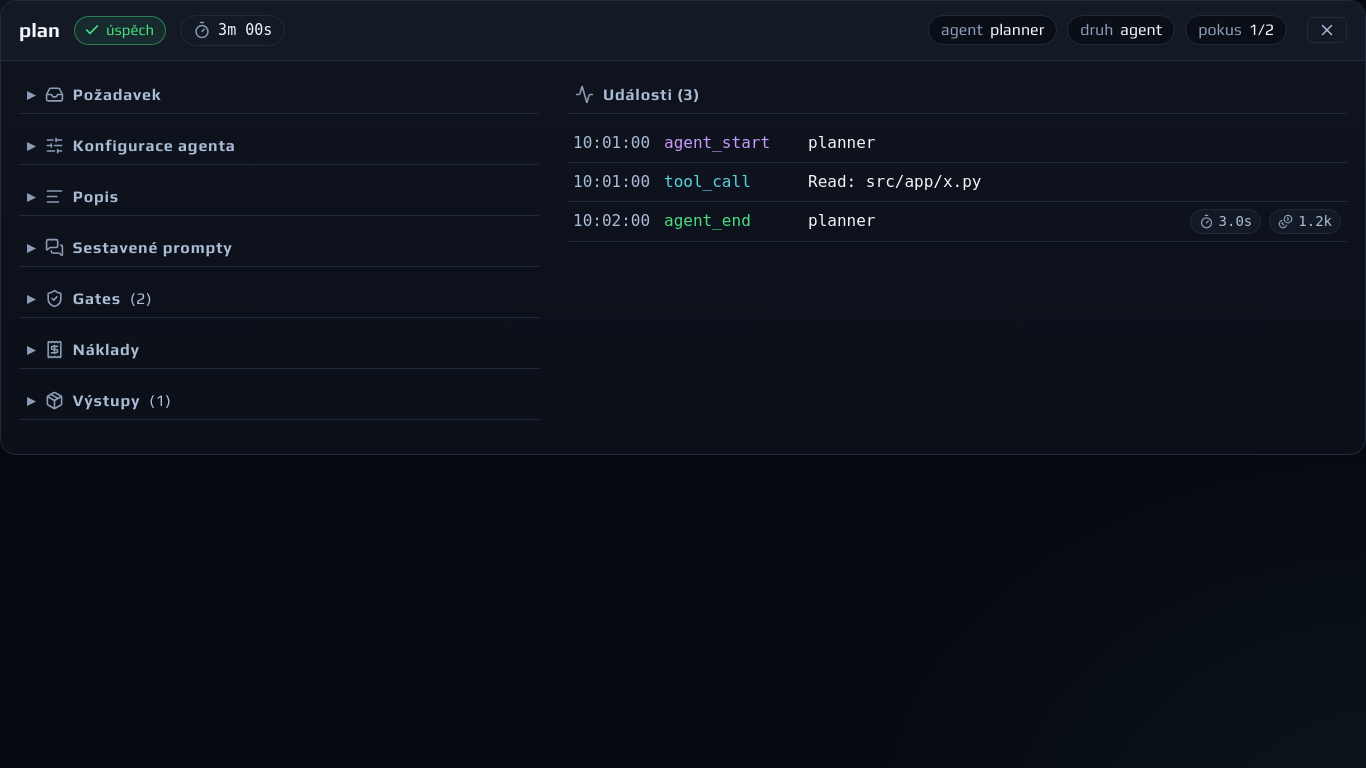
it: PhaseDetail › says when the prompts are the agent’s last ones
Click the button "▸ Sestavené prompty" at (153, 247), box [19, 230, 539, 266]
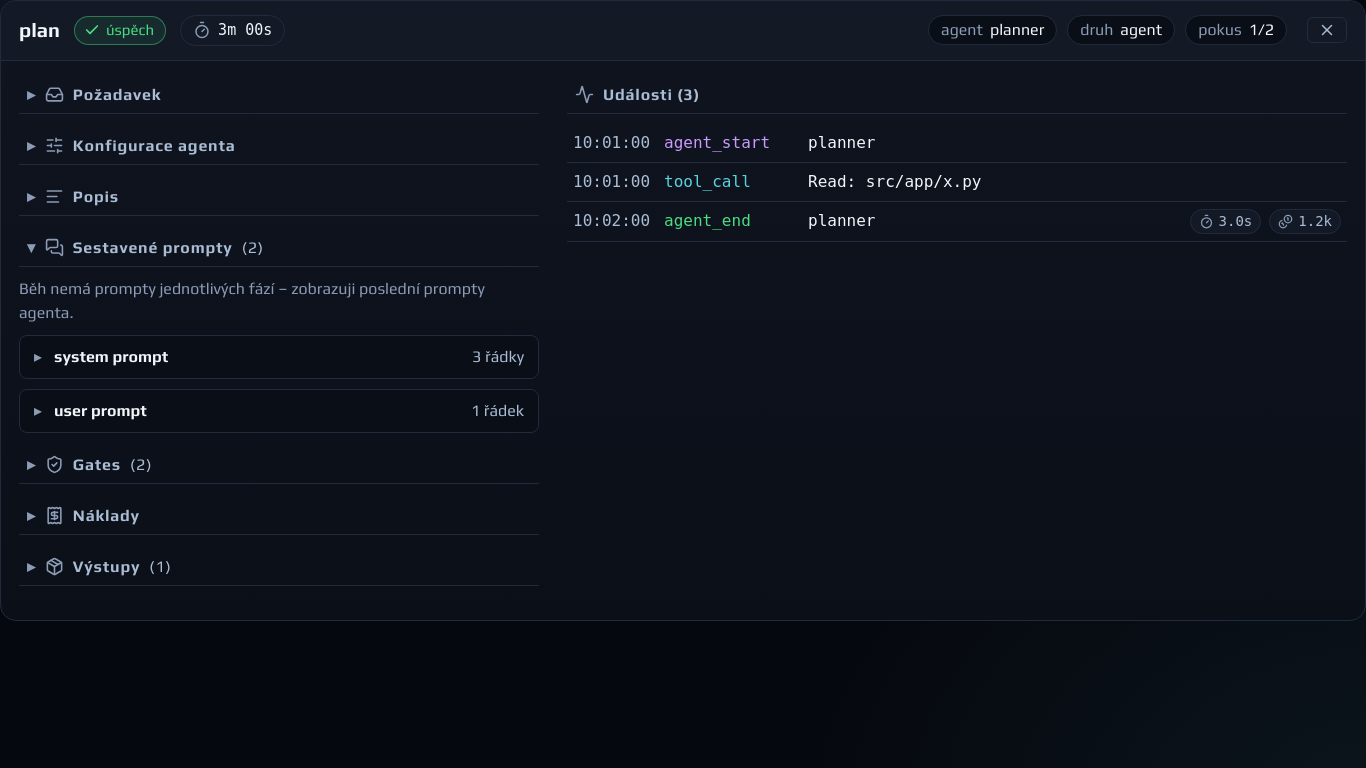
Expected: the text with test id "prompts-legacy" shows "poslední prompty agenta", [19, 278, 485, 322]
